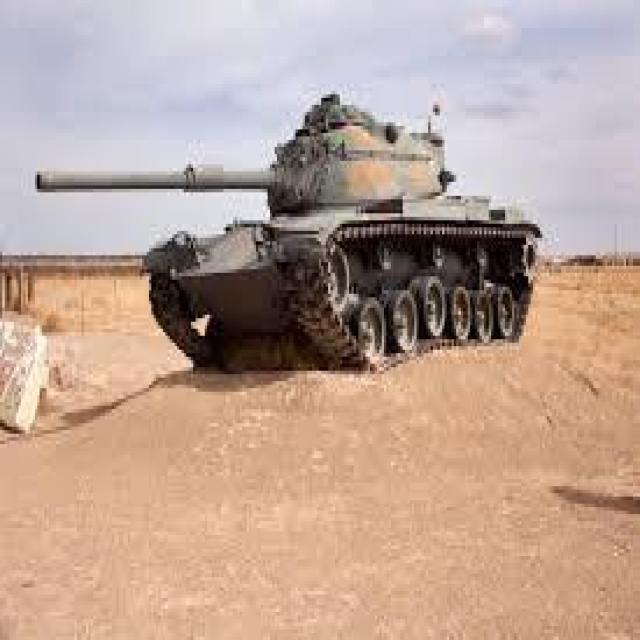Tanks: (133, 80, 552, 374)
